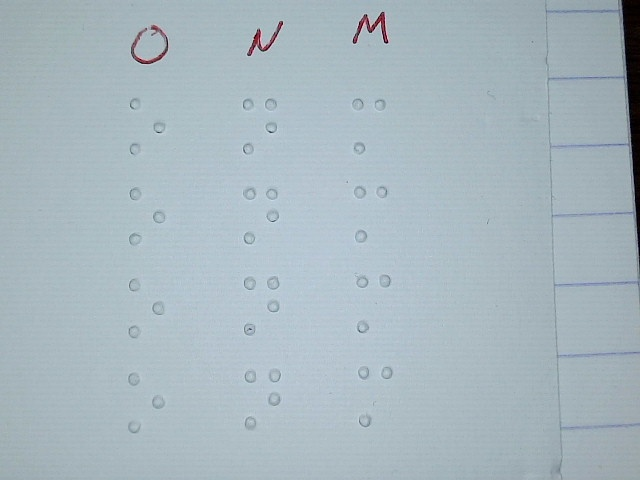M: (349, 95, 388, 154), (351, 184, 390, 243), (354, 273, 393, 332), (357, 365, 394, 426)
N: (243, 273, 281, 335), (244, 367, 282, 429), (240, 96, 279, 155), (241, 185, 280, 244)
O: (127, 370, 166, 433), (128, 96, 167, 155), (127, 186, 166, 245), (127, 278, 166, 337)
